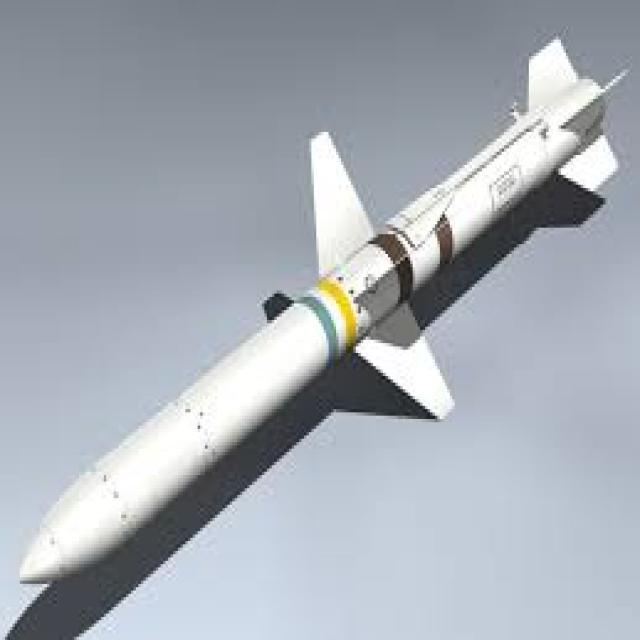missile: (14, 33, 622, 588)
